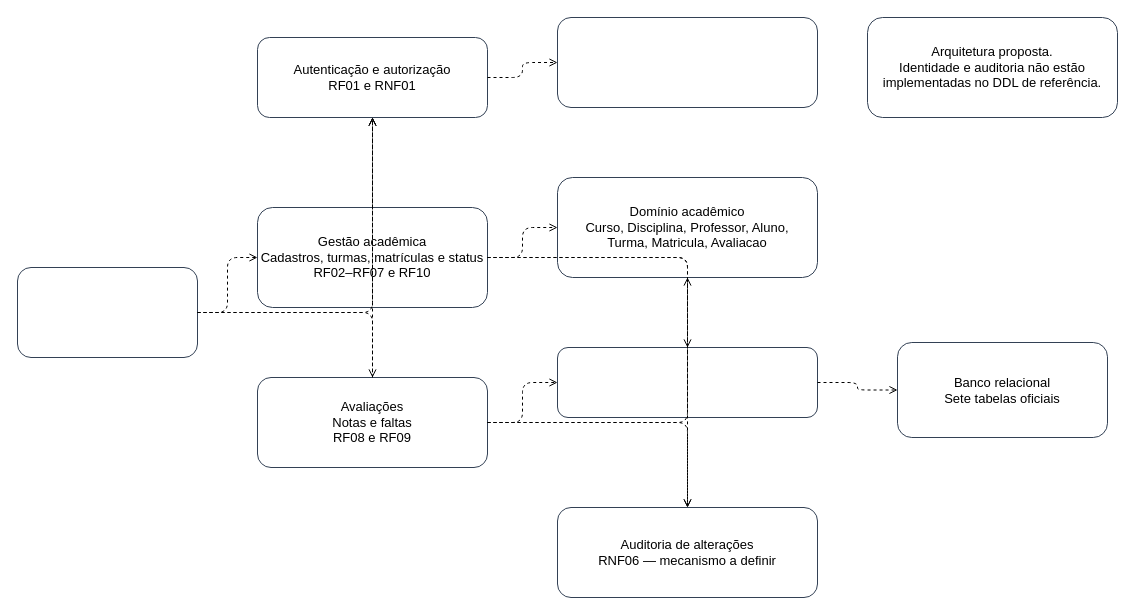
Image size: 1135x615. Some labels were removed from this diagram. Each missing label, with the box of its shape:
Adaptador de identidade Persistência ou provedor a definir: (556, 16, 818, 108)
Interface web Aluno, Professor, Administrador: (16, 266, 198, 358)
Repositórios acadêmicos: (556, 346, 818, 418)
